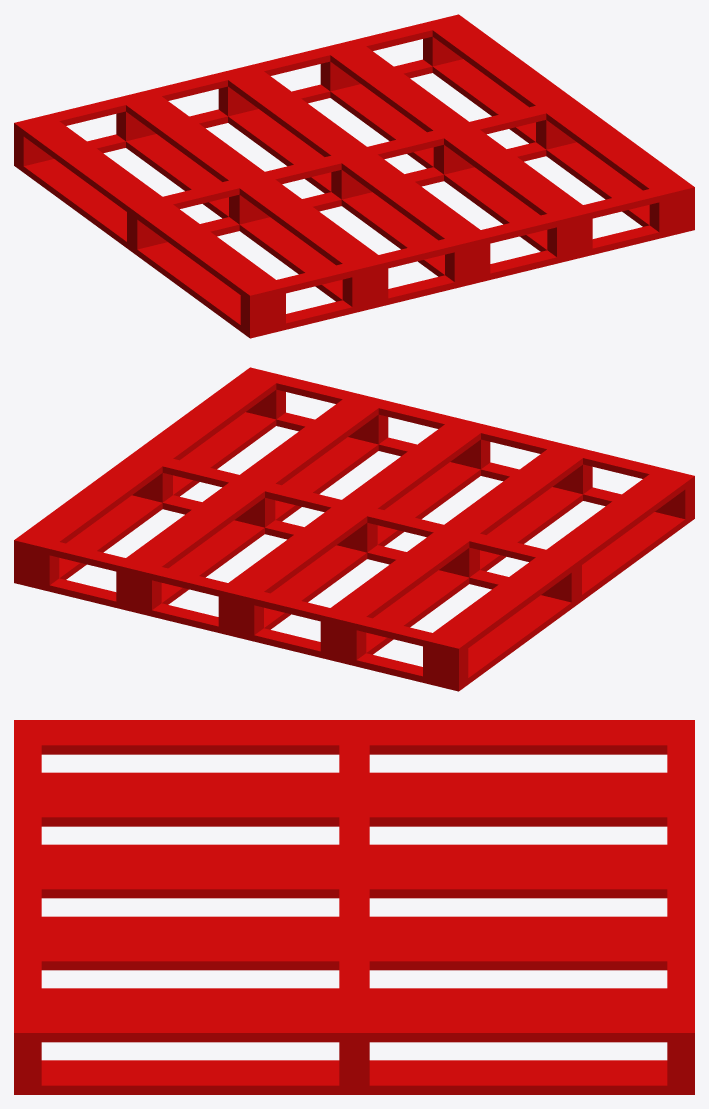
Rendered from Pallet_SM.fbx.
3 views of the same model, one above another, from view 1: azimuth 30°, elevation 25°; view 2: azimuth 150°, elevation 25°; view 3: azimuth 270°, elevation 25° (orthographic). The views are drawn at different scales.
Parts seen in each view (by area): view 1: pCube31; view 2: pCube31; view 3: pCube31.
Part boxes in pixels (bbox=[...]): pCube31: bbox=[14, 14, 694, 338]; pCube31: bbox=[14, 367, 694, 691]; pCube31: bbox=[14, 720, 694, 1094].
Bounding box in the file's own units: 174 × 16 × 160.
